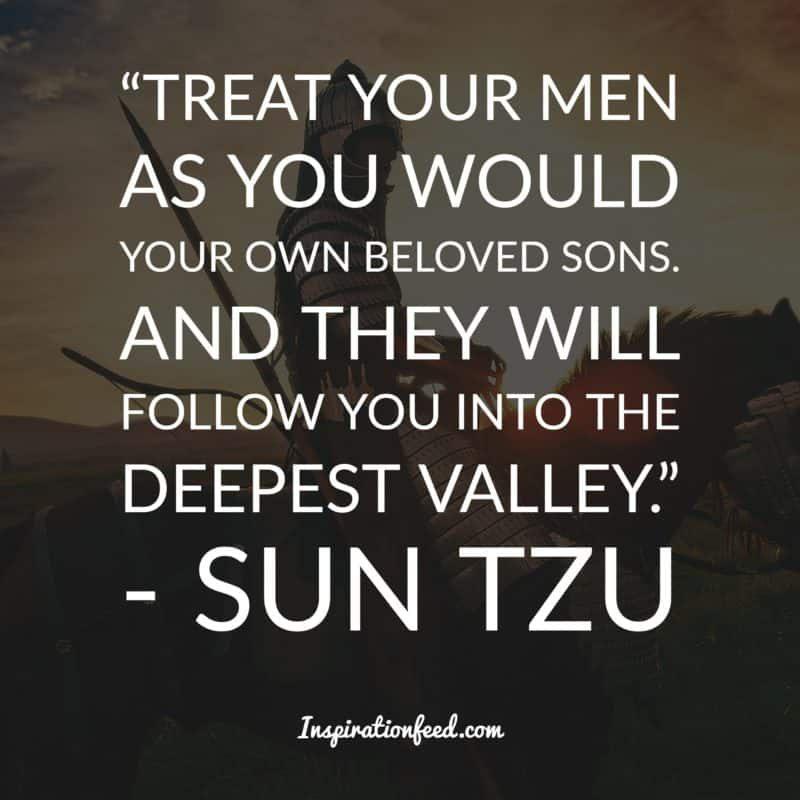latin: (115, 298, 684, 521), (119, 67, 682, 215), (193, 540, 675, 641), (116, 233, 681, 286)
